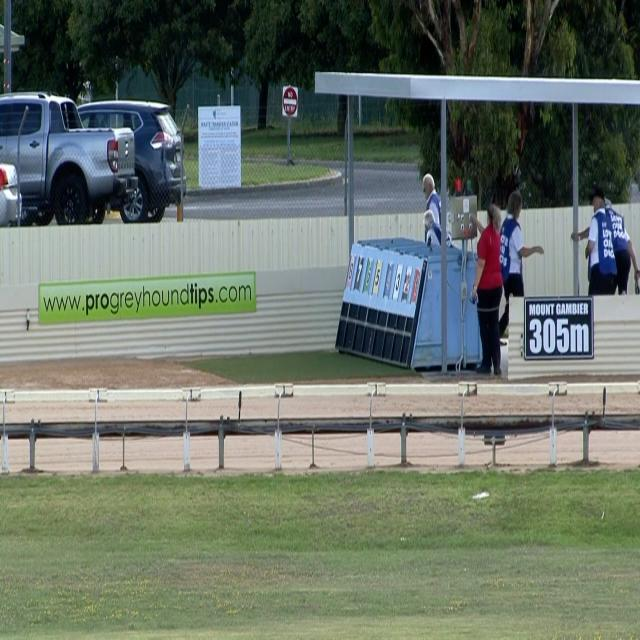rail: (0, 412, 640, 440)
